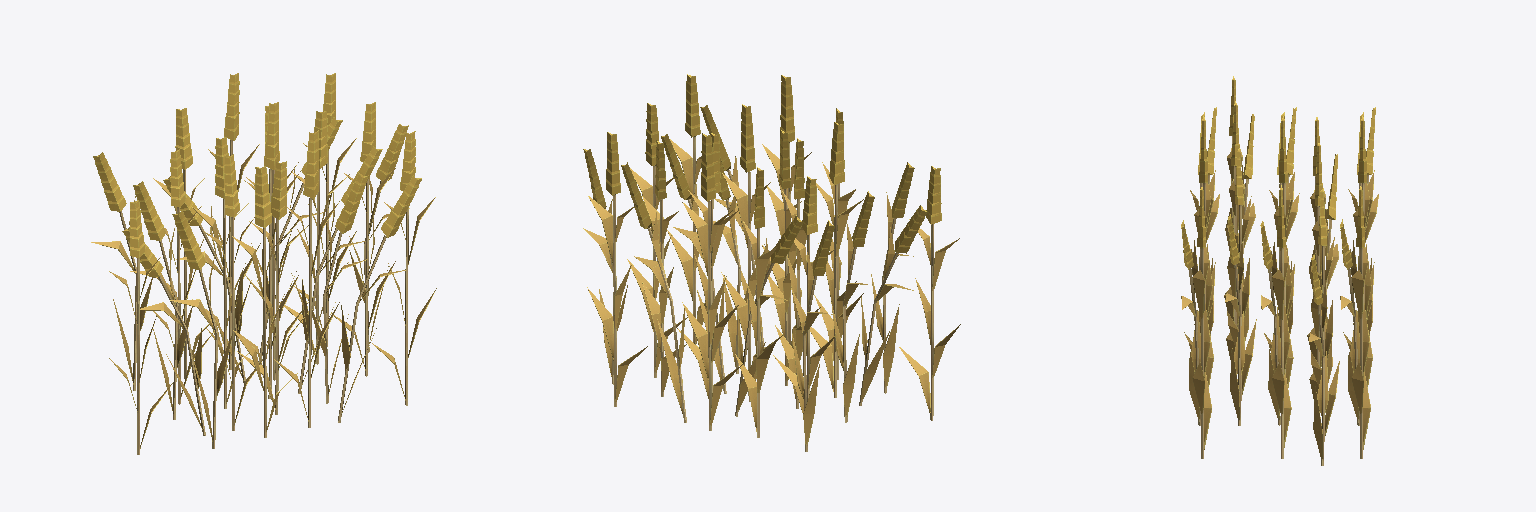
3 views of the same model, side by side, from view 1: azimuth 30°, elevation 25°; view 2: azimuth 150°, elevation 25°; view 3: azimuth 270°, elevation 25° (orthographic).
Parts seen in each view (by area): view 1: FieldOfWheat_mesh; view 2: FieldOfWheat_mesh; view 3: FieldOfWheat_mesh.
Part boxes in pixels (bbox=[...]): FieldOfWheat_mesh: bbox=[91, 73, 436, 454]; FieldOfWheat_mesh: bbox=[583, 74, 960, 451]; FieldOfWheat_mesh: bbox=[1181, 76, 1378, 465].
Bounding box in the file's own units: 16.21 × 13.45 × 8.16.
1 materials, 1 textured.